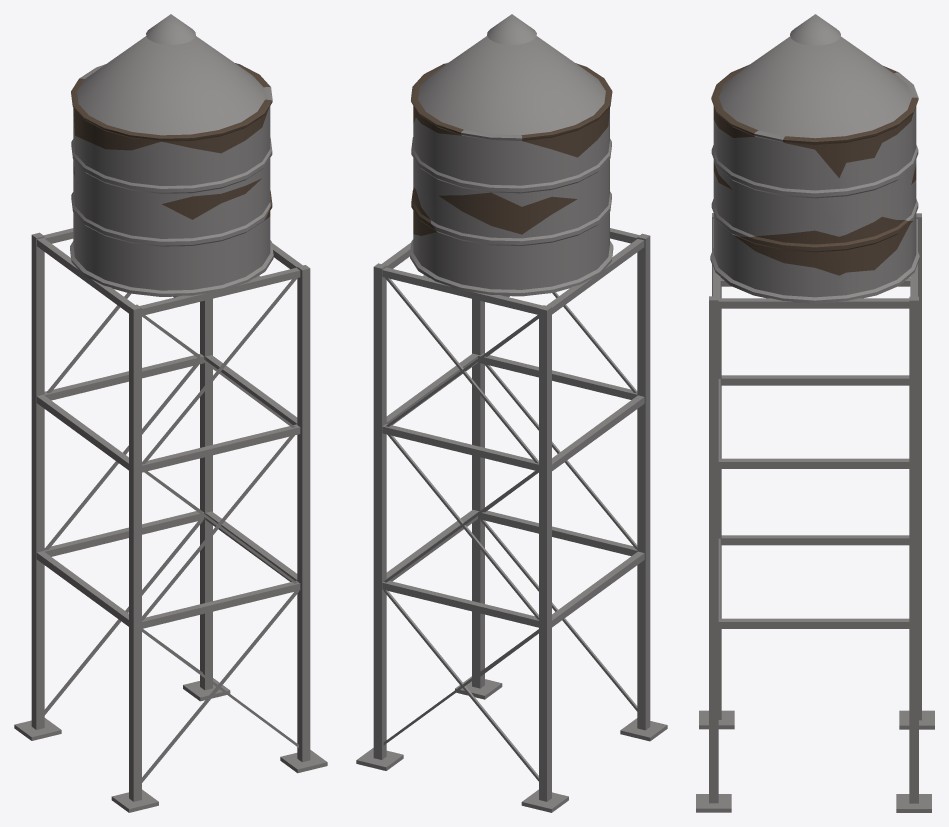
File: quaternius-zombie-apocalypse-kit-march-watertower.glb
3 views of the same model, side by side, from view 1: azimuth 30°, elevation 25°; view 2: azimuth 150°, elevation 25°; view 3: azimuth 270°, elevation 25° (orthographic). The views are drawn at different scales.
Visible parts, largest first — view 1: WaterTower; view 2: WaterTower; view 3: WaterTower.
Part boxes in pixels (x1,y1,x2,y2): WaterTower: [14, 14, 327, 812]; WaterTower: [356, 14, 667, 812]; WaterTower: [696, 14, 934, 812].
Bounding box in the file's own units: 2.65 × 9.38 × 2.71.
1 material, 1 textured.
